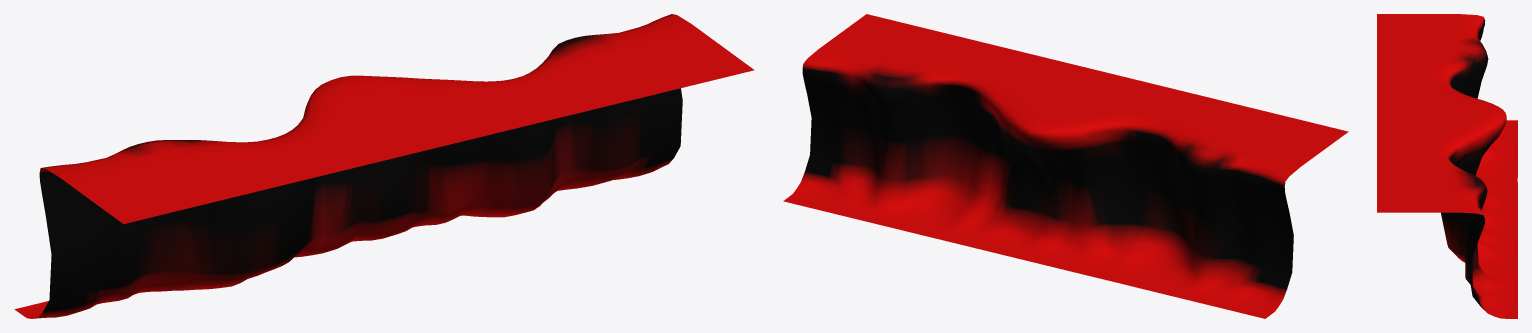
Rendered from GroundCliff02B 1M Foreground.fbx.
3 renders of one model, left to right at view 1: azimuth 30°, elevation 25°; view 2: azimuth 150°, elevation 25°; view 3: azimuth 270°, elevation 25°, orthographic. The views are drawn at different scales.
Visible parts, largest first — view 1: GroundCliff02B 1M Foreground; view 2: GroundCliff02B 1M Foreground; view 3: GroundCliff02B 1M Foreground.
Part boxes in pixels (bbox=[...]): GroundCliff02B 1M Foreground: bbox=[14, 14, 754, 318]; GroundCliff02B 1M Foreground: bbox=[783, 14, 1348, 318]; GroundCliff02B 1M Foreground: bbox=[1377, 14, 1517, 318].
Size of the model in its own units: 4 by 1 by 1.2.
